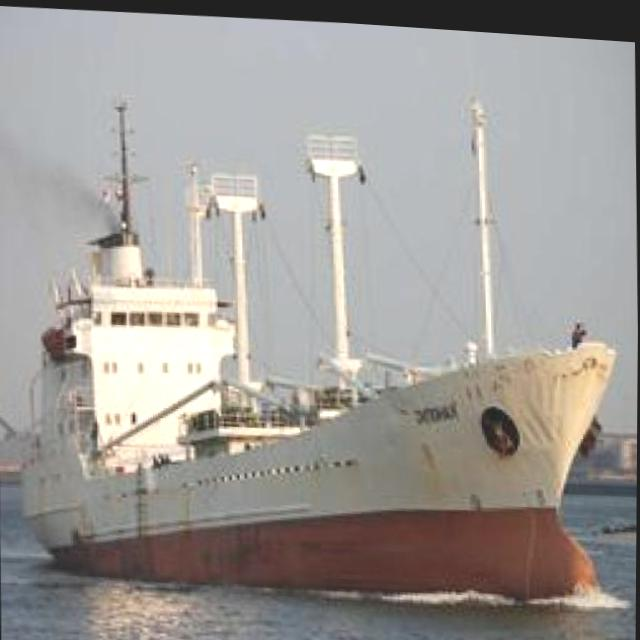ship2: (23, 84, 619, 591)
